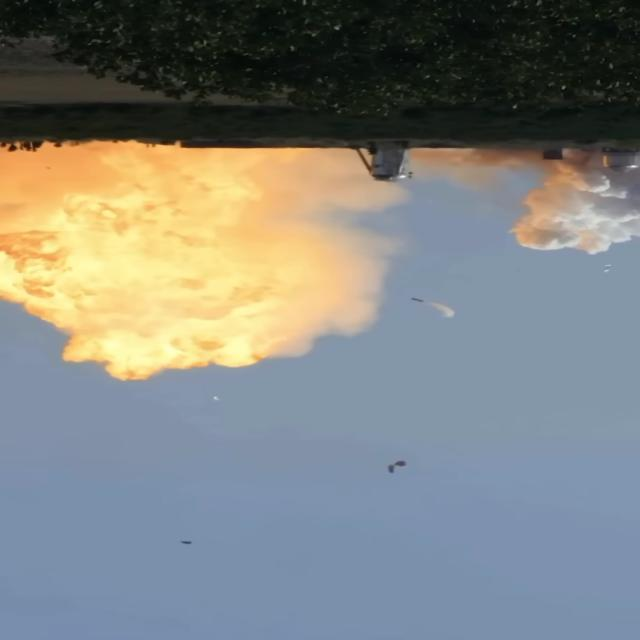Missile: (409, 290, 442, 308)
